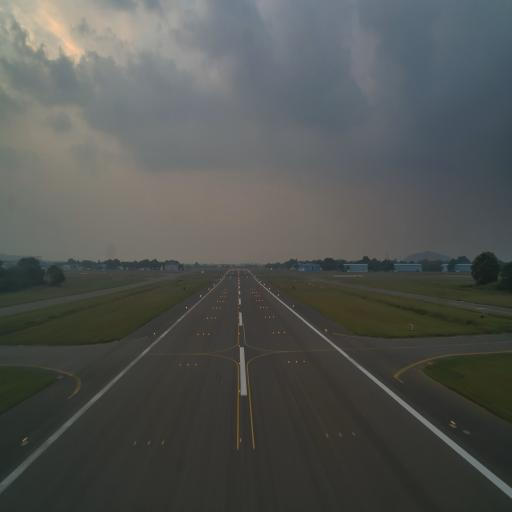on: (448, 417, 458, 431), (21, 432, 30, 446), (337, 430, 344, 439), (132, 438, 138, 448), (350, 428, 356, 438), (324, 431, 330, 440), (238, 434, 242, 446), (160, 438, 165, 446), (147, 438, 151, 447), (194, 362, 198, 368), (302, 359, 306, 364), (238, 360, 241, 366), (187, 362, 190, 367), (179, 362, 181, 368), (238, 389, 240, 394), (296, 359, 298, 364), (288, 360, 290, 364)
